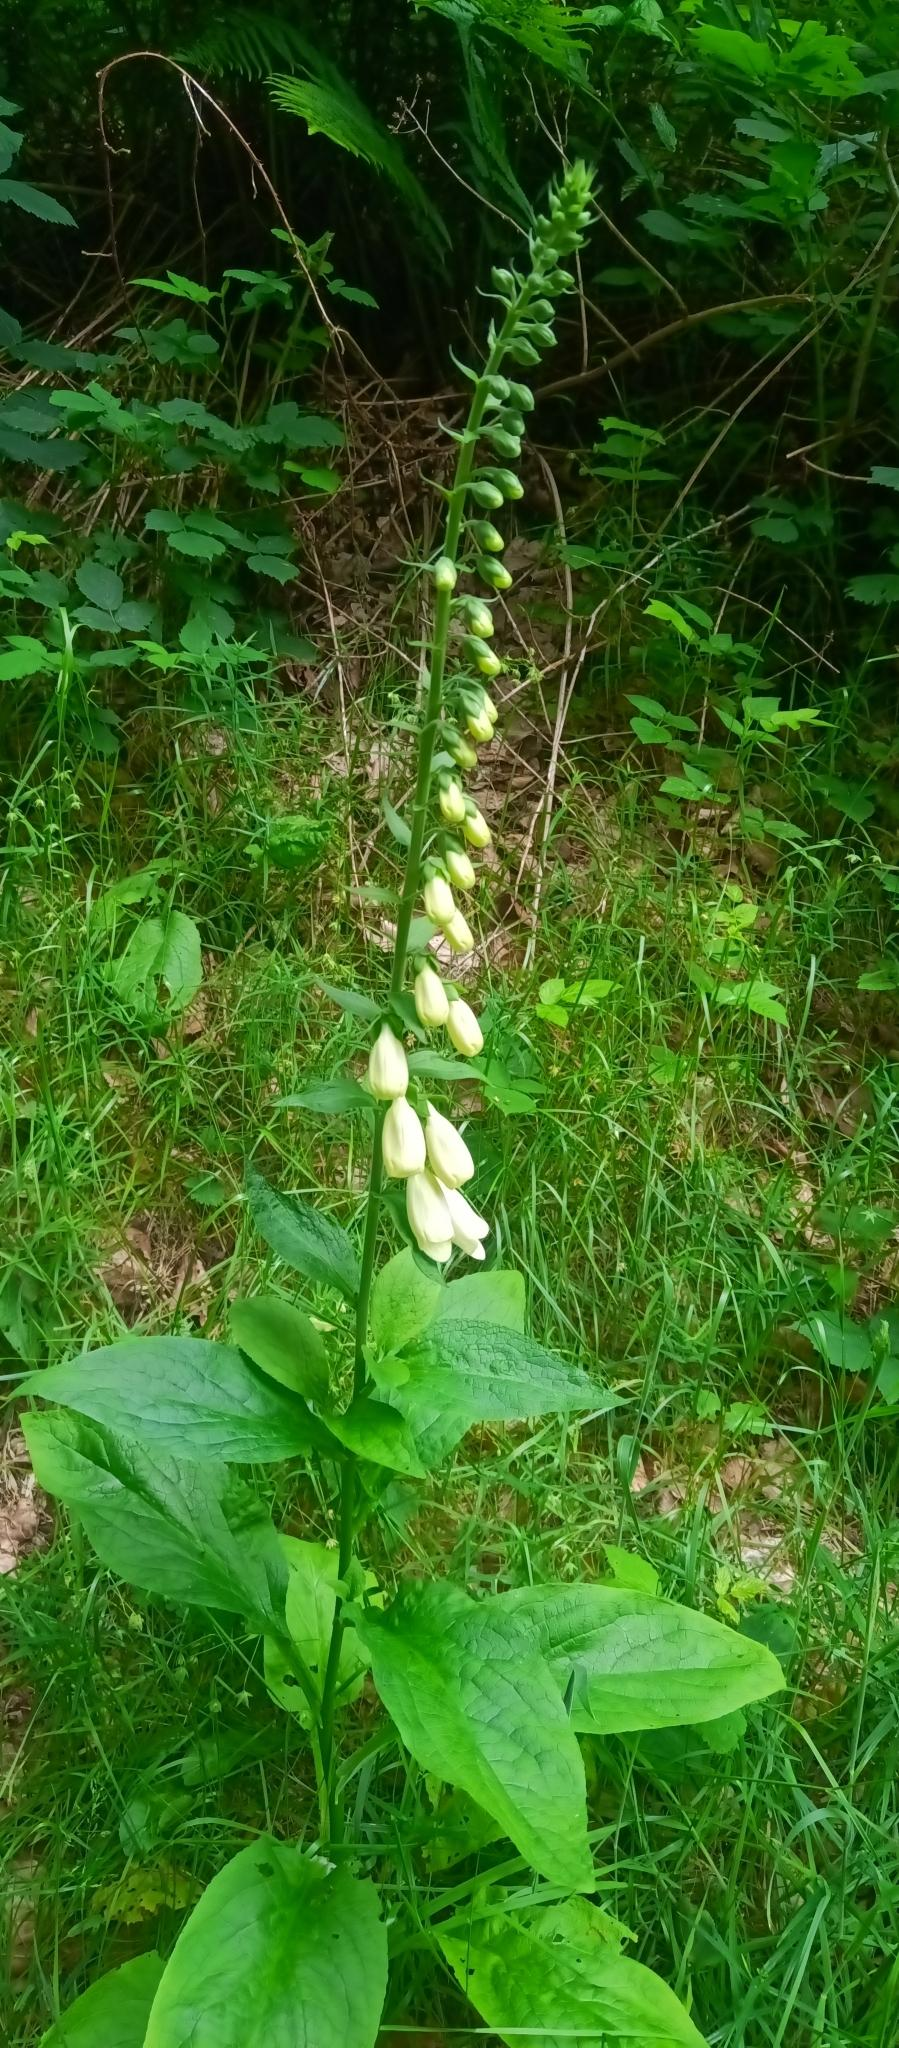Digitalis L: (64, 158, 642, 2041)
